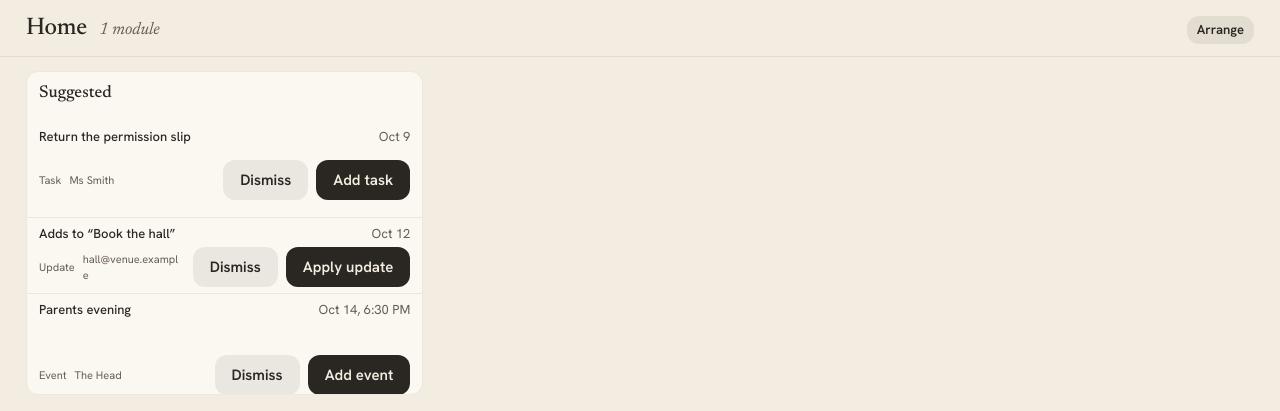
<HomeView> the Suggested module › approves untouched, in one tap, and the row leaves
What coordinates should you click on to do the following:
click the button "Add task"
I would click on:
 (363, 180)
Its box is [316,160,410,200].
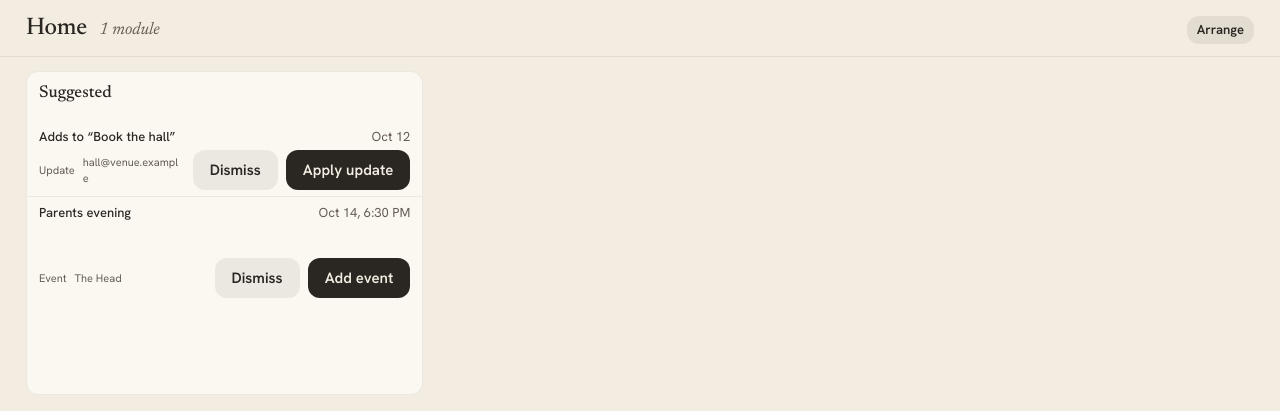
Expected: the text "Parents evening" is shown, [39,204,131,221]
Now the text "Return the permission slip" is gone
